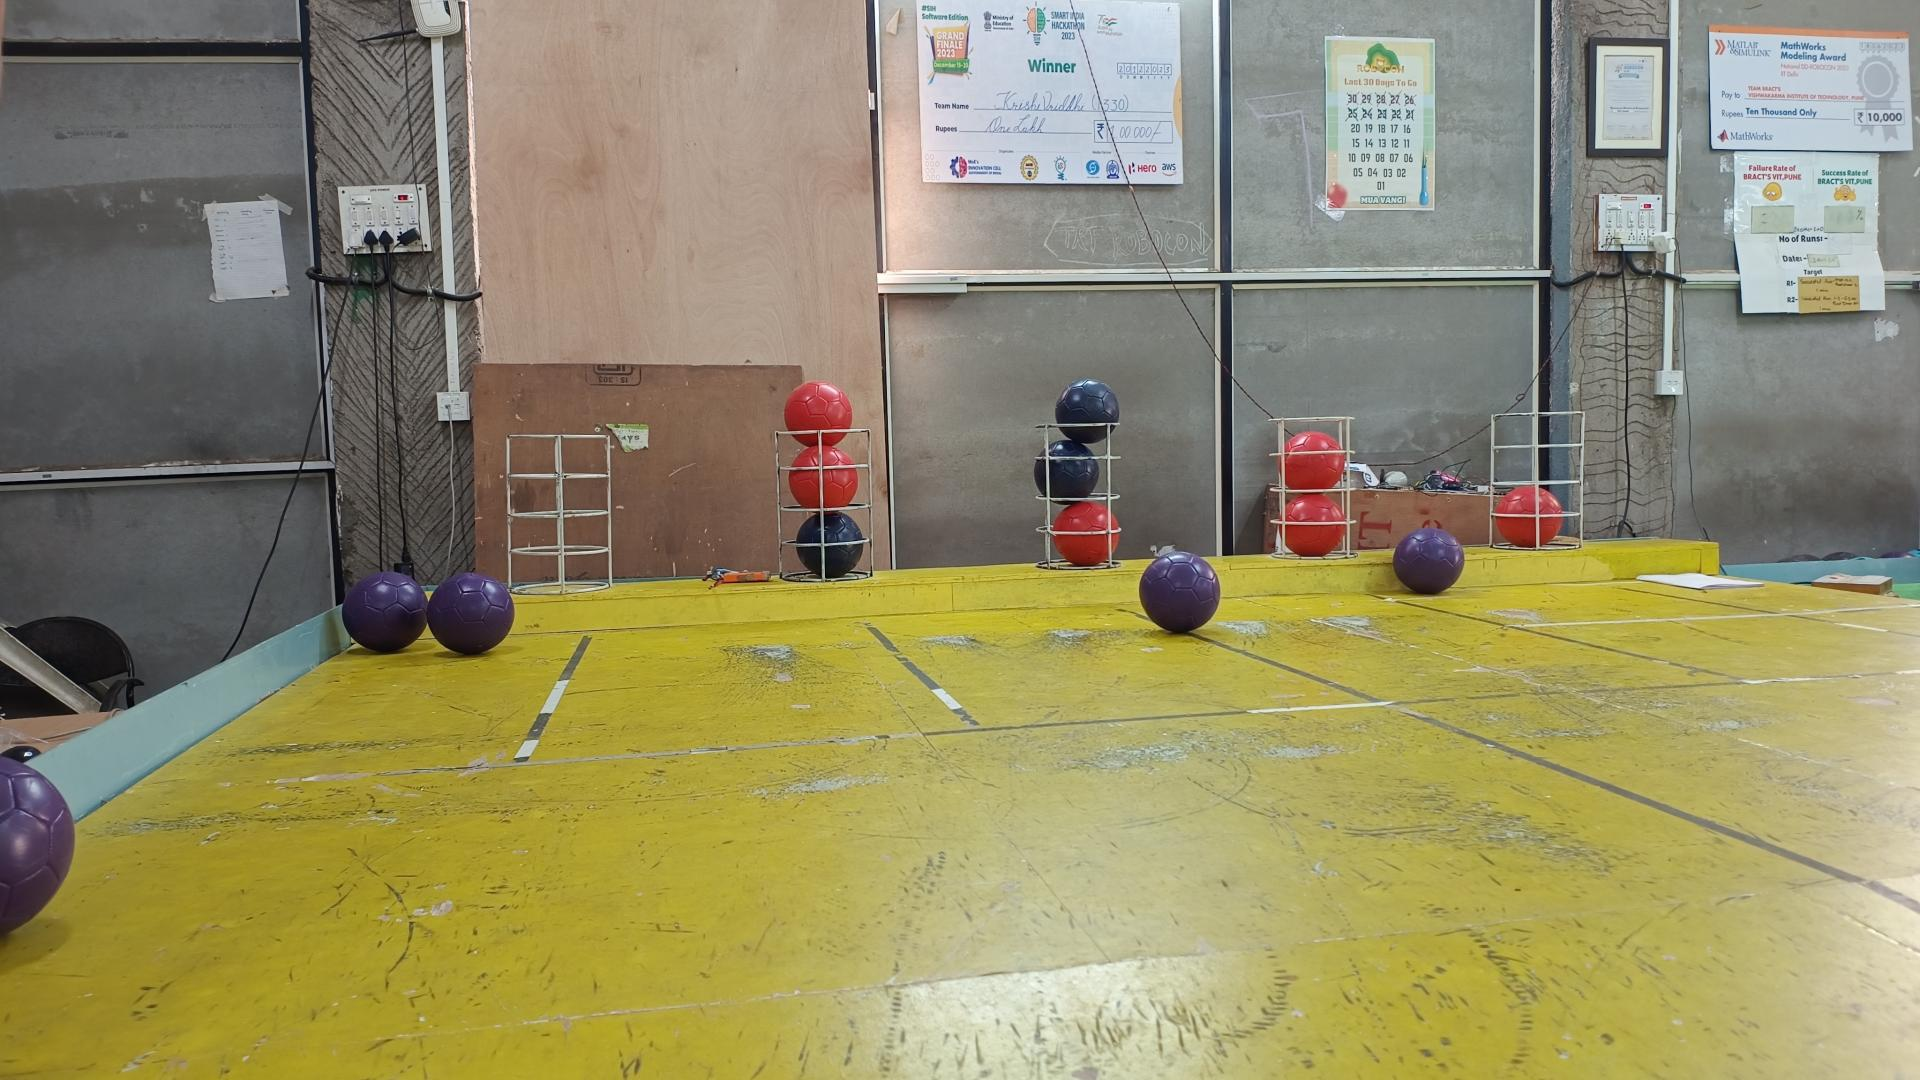dhoka: (794, 510, 865, 578), (1034, 440, 1101, 504), (1058, 381, 1121, 444)
laale: (783, 380, 855, 447), (786, 446, 857, 509), (1052, 501, 1120, 564), (1495, 488, 1563, 547), (1283, 492, 1344, 556), (1280, 431, 1344, 492)
